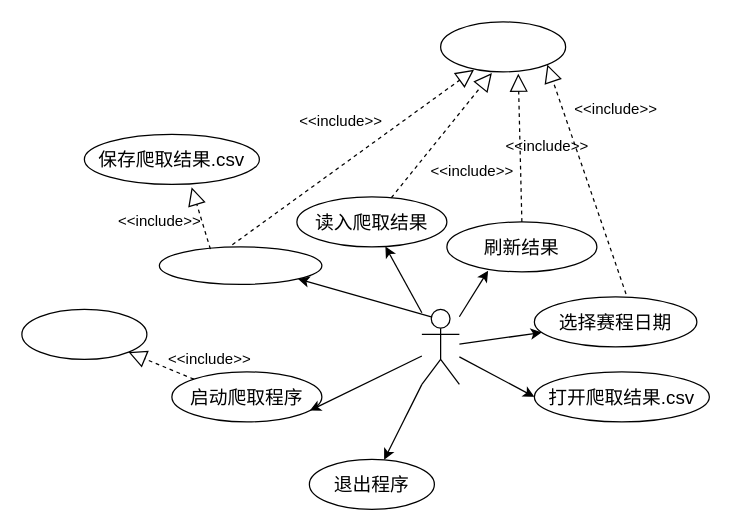
Image size: 731x531. Some labels were removed from this diagram. The centre of each missing label's shape, as x and y in pixels:
User: (440,346)
初始化GUI: (84,333)
发起爬取请求: (240,265)
更新UI: (502,46)
